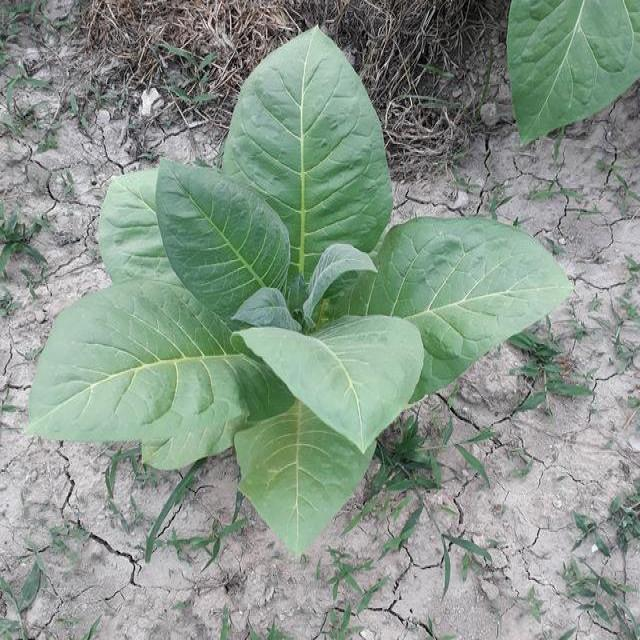crop: (31, 58, 546, 572), (515, 10, 640, 138)
